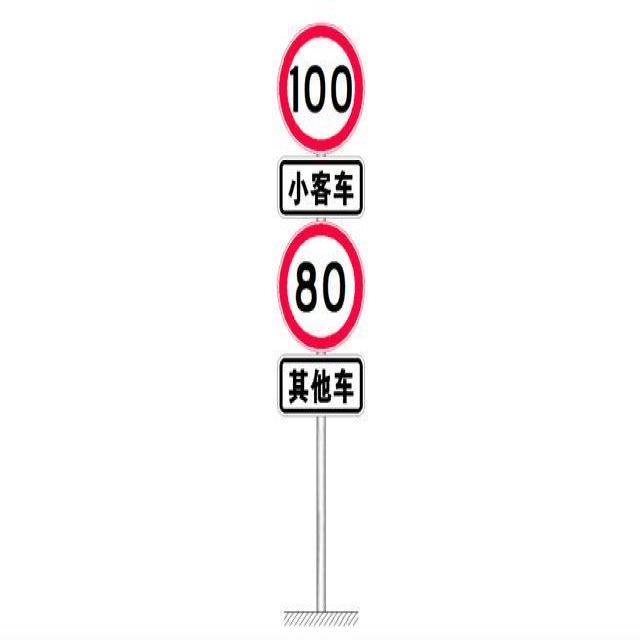speed limit 100: (275, 24, 364, 153)
speed limit 80: (277, 221, 365, 352)
